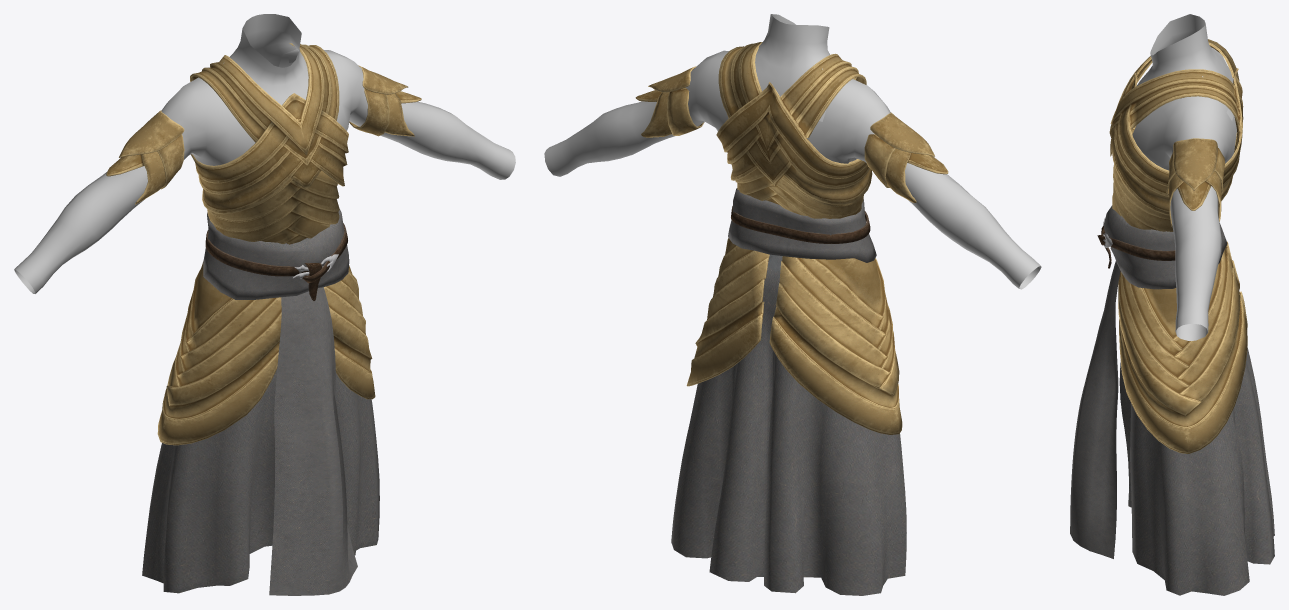
File: rivendell_torso_heavy_tier1.fbx
The picture shows the model from 3 angles, left to right: view 1: azimuth 30°, elevation 25°; view 2: azimuth 150°, elevation 25°; view 3: azimuth 270°, elevation 25°; orthographic projection. The views are drawn at different scales.
Visible parts, largest first — view 1: rivendell_torso_heavy_tier1.5, rivendell_torso_heavy_tier1.2, rivendell_torso_heavy_tier1.6, rivendell_torso_heavy_tier1.4, rivendell_torso_heavy_tier1.0, rivendell_torso_heavy_tier1.1, rivendell_torso_heavy_tier1.3; view 2: rivendell_torso_heavy_tier1.2, rivendell_torso_heavy_tier1.4, rivendell_torso_heavy_tier1.6, rivendell_torso_heavy_tier1.0, rivendell_torso_heavy_tier1.5, rivendell_torso_heavy_tier1.1, rivendell_torso_heavy_tier1.3; view 3: rivendell_torso_heavy_tier1.2, rivendell_torso_heavy_tier1.4, rivendell_torso_heavy_tier1.6, rivendell_torso_heavy_tier1.5, rivendell_torso_heavy_tier1.0, rivendell_torso_heavy_tier1.1, rivendell_torso_heavy_tier1.3.
Boxes of the visible parts, x1,y1,x2,y2 form: rivendell_torso_heavy_tier1.5: [203, 209, 357, 595]; rivendell_torso_heavy_tier1.2: [142, 269, 379, 593]; rivendell_torso_heavy_tier1.6: [14, 14, 515, 293]; rivendell_torso_heavy_tier1.4: [157, 262, 375, 445]; rivendell_torso_heavy_tier1.0: [190, 43, 348, 214]; rivendell_torso_heavy_tier1.1: [106, 65, 421, 204]; rivendell_torso_heavy_tier1.3: [207, 170, 339, 244]; rivendell_torso_heavy_tier1.2: [671, 235, 906, 595]; rivendell_torso_heavy_tier1.4: [686, 238, 902, 434]; rivendell_torso_heavy_tier1.6: [544, 14, 1041, 289]; rivendell_torso_heavy_tier1.0: [716, 42, 872, 204]; rivendell_torso_heavy_tier1.5: [728, 188, 876, 262]; rivendell_torso_heavy_tier1.1: [635, 66, 948, 202]; rivendell_torso_heavy_tier1.3: [735, 168, 863, 218]; rivendell_torso_heavy_tier1.2: [1119, 347, 1274, 595]; rivendell_torso_heavy_tier1.4: [1118, 241, 1247, 453]; rivendell_torso_heavy_tier1.6: [1132, 14, 1236, 340]; rivendell_torso_heavy_tier1.5: [1070, 205, 1227, 558]; rivendell_torso_heavy_tier1.0: [1109, 39, 1243, 215]; rivendell_torso_heavy_tier1.1: [1166, 138, 1225, 226]; rivendell_torso_heavy_tier1.3: [1112, 132, 1237, 231].
Size of the model in its own units: 1.38 by 0.5129 by 1.46.
